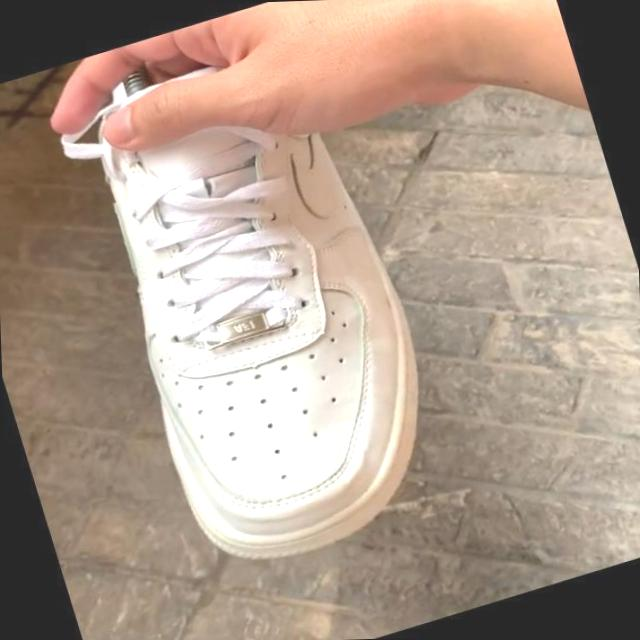nike_fake_airforce: (42, 0, 469, 586)
